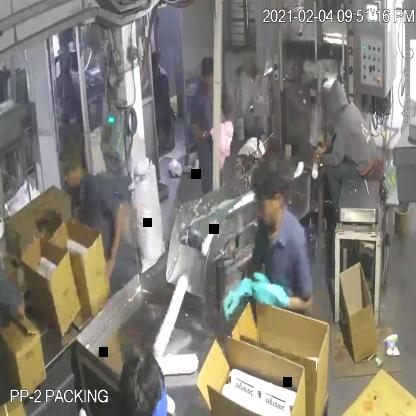glove: (250, 252, 290, 321), (217, 271, 253, 321)
no_glove: (94, 193, 128, 292), (191, 108, 215, 155)
